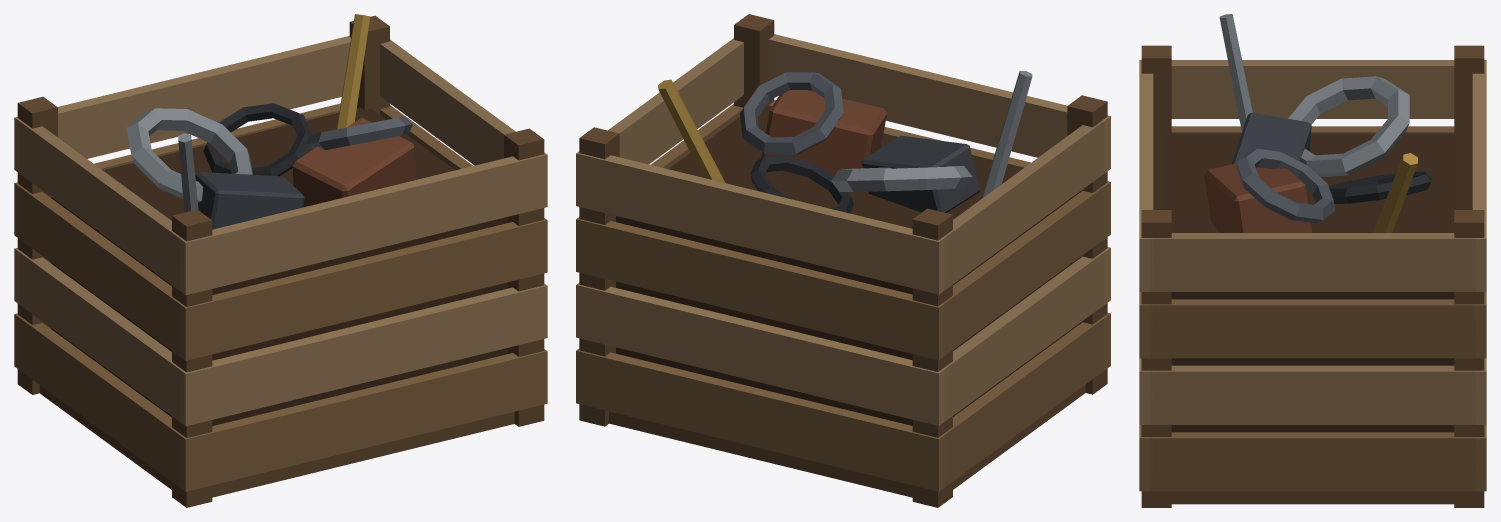
File: prop_parts.glb
3 views of the same model, side by side, from view 1: azimuth 30°, elevation 25°; view 2: azimuth 150°, elevation 25°; view 3: azimuth 270°, elevation 25° (orthographic).
Visible parts, largest first — view 1: prop_parts; view 2: prop_parts; view 3: prop_parts.
Boxes of the visible parts, bbox=[...] form: prop_parts: bbox=[14, 14, 547, 507]; prop_parts: bbox=[576, 14, 1110, 507]; prop_parts: bbox=[1139, 14, 1486, 507].
Bounding box in the file's own units: 0.78 × 0.6837 × 0.64.
